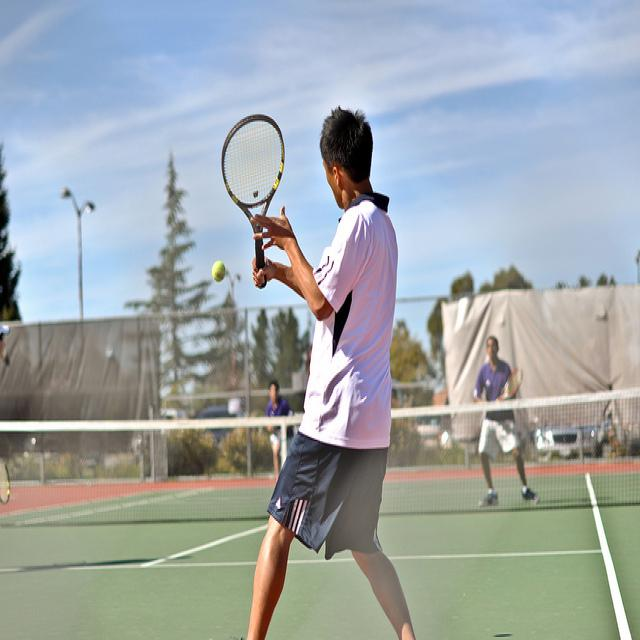Vehicle: (534, 424, 596, 464)
